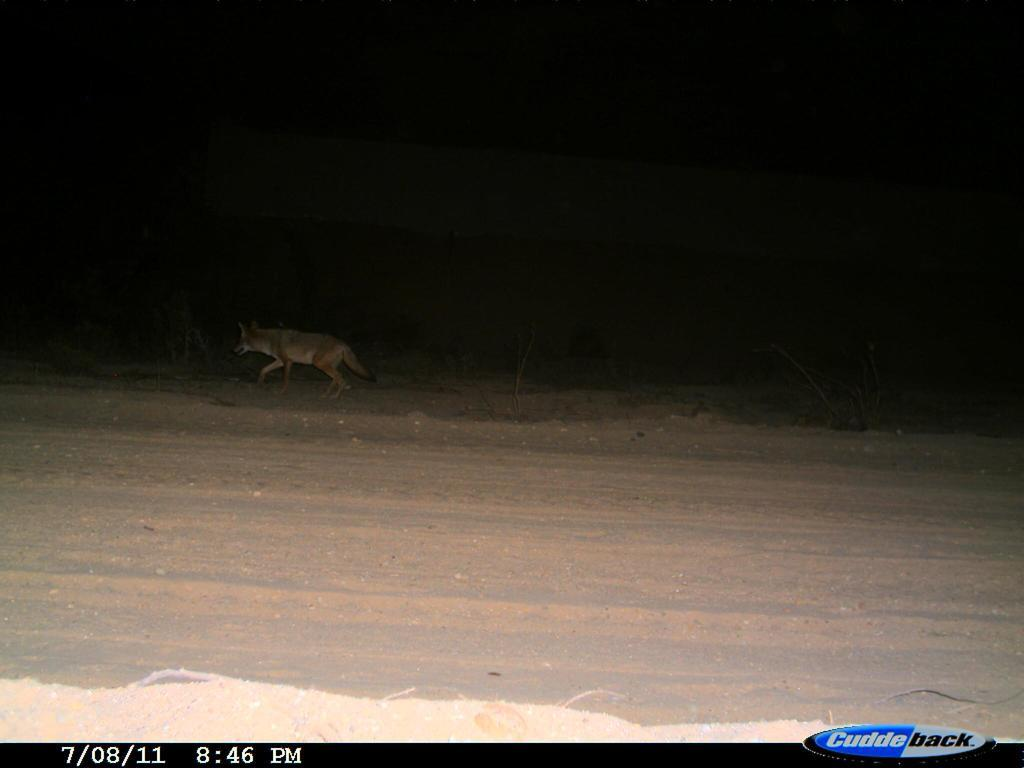coyote: (222, 306, 381, 402)
